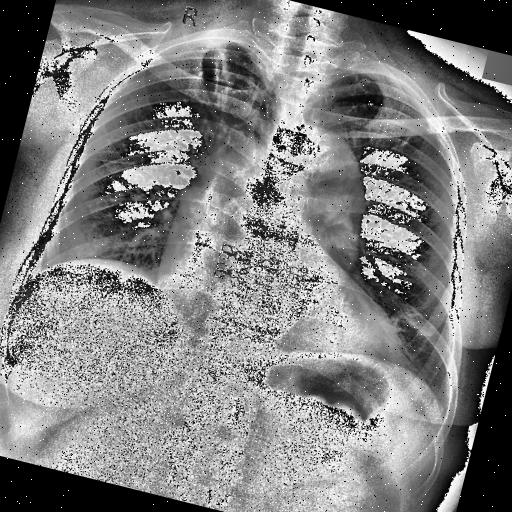0- Aortic enlargement: (256, 115, 384, 250), (260, 122, 386, 248), (250, 122, 378, 242)
11- Pleural thickening: (182, 28, 272, 66)
13- Pulmonary fibrosis: (192, 47, 246, 147), (190, 40, 244, 126)
3- Cardiomegaly: (140, 259, 402, 392), (148, 235, 410, 366), (144, 261, 412, 381)
